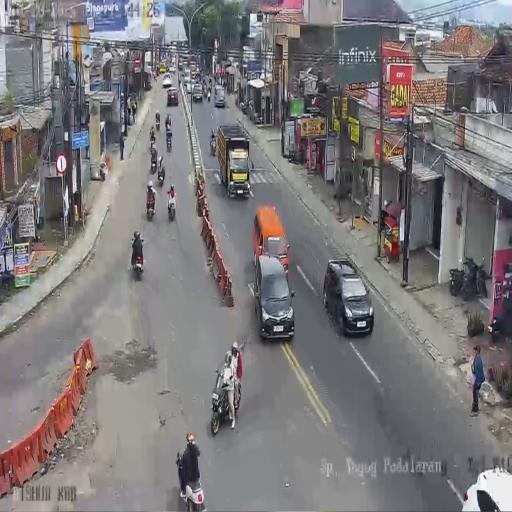3: (216, 123, 250, 200), (190, 66, 197, 79), (178, 60, 184, 71)
car: (323, 258, 375, 336), (254, 251, 294, 338), (214, 85, 226, 108), (166, 88, 179, 106), (192, 83, 203, 102), (184, 77, 193, 93), (162, 74, 172, 88), (160, 62, 166, 74), (170, 65, 176, 74)
truck: (210, 354, 245, 435), (450, 257, 490, 301), (178, 454, 204, 511), (490, 295, 512, 340), (131, 228, 144, 274), (146, 190, 156, 220), (166, 192, 176, 220), (157, 162, 165, 186), (150, 150, 157, 173), (149, 125, 156, 145), (166, 130, 172, 150), (155, 116, 160, 130), (207, 89, 211, 102), (153, 72, 157, 82)
